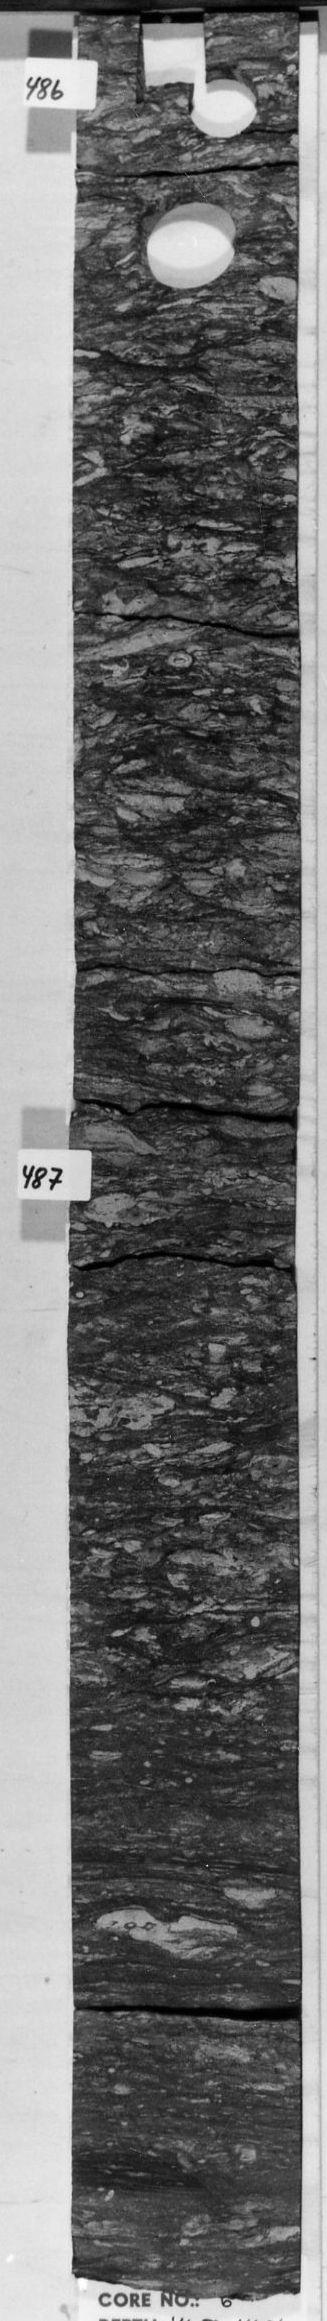hplug: (185, 70, 262, 144)
scal: (130, 189, 249, 298)
vplug: (127, 18, 210, 115)
